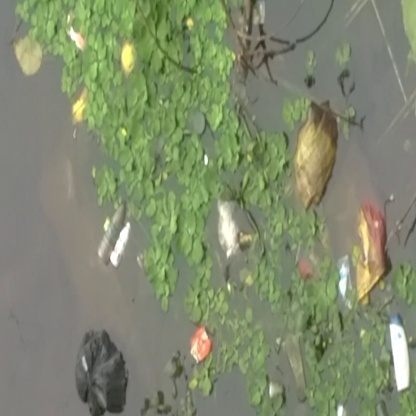plastic-garbage: (293, 99, 340, 212), (351, 198, 396, 300)
